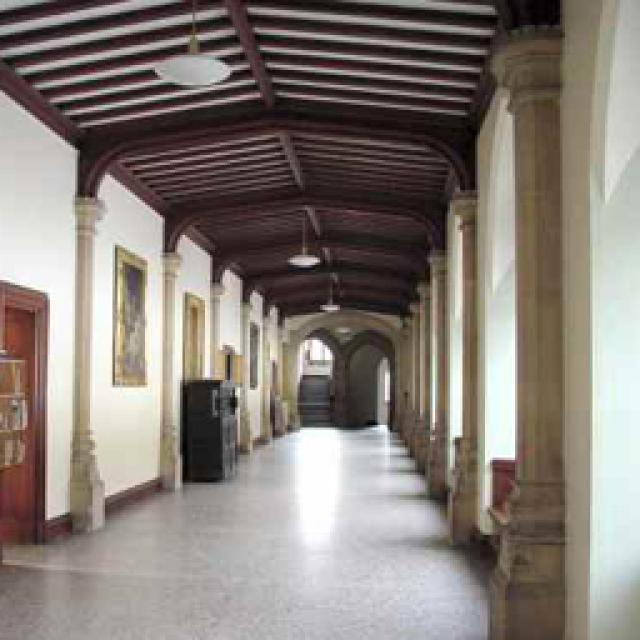2001: (305, 338, 330, 362)
floor -X: (0, 418, 495, 638)
furniture crop: (182, 375, 235, 478)
lamp crop: (155, 0, 228, 82), (285, 208, 318, 262)
picture crop: (110, 242, 145, 382), (248, 320, 258, 382)
wall clock: (392, 0, 635, 638), (0, 87, 285, 556), (282, 305, 395, 428), (345, 342, 385, 420), (298, 335, 330, 422)
